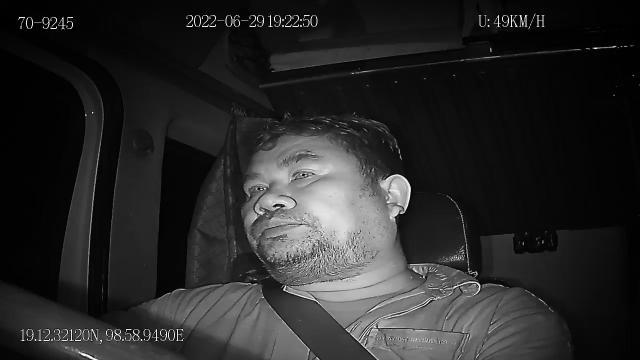SafeDriving: (286, 158, 324, 187), (239, 172, 274, 202)
Seatbelt: (260, 276, 380, 360)
